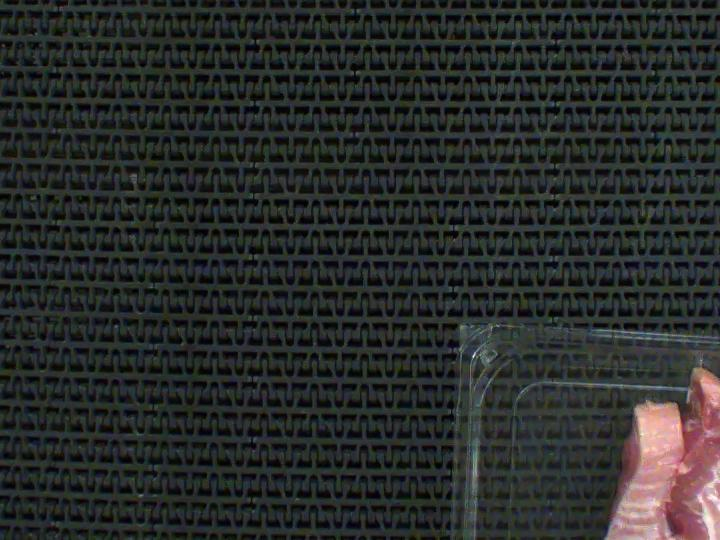packaging-error: (668, 323, 720, 408)
twisted-meat: (587, 482, 720, 540)
